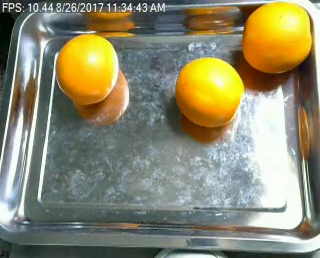Orange: (241, 2, 310, 75), (175, 56, 242, 125), (55, 34, 118, 104)
